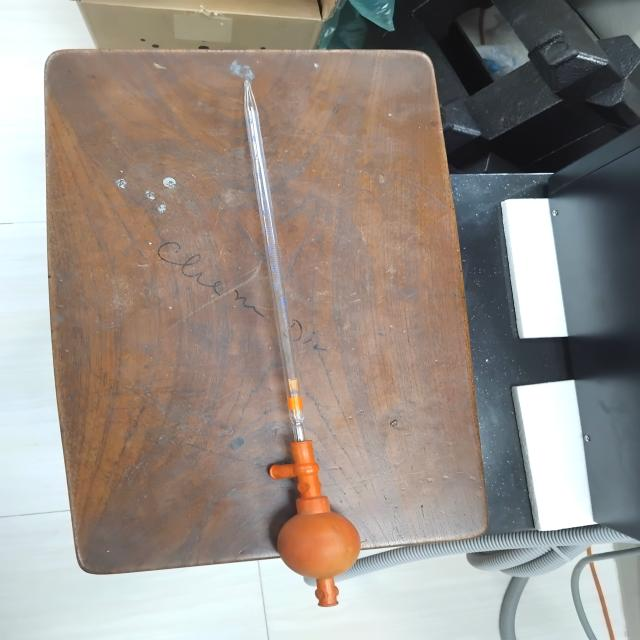Volumetric_Pipet: (194, 49, 380, 638)
